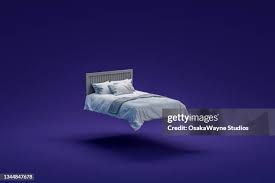bed-matress: (83, 88, 188, 123)
